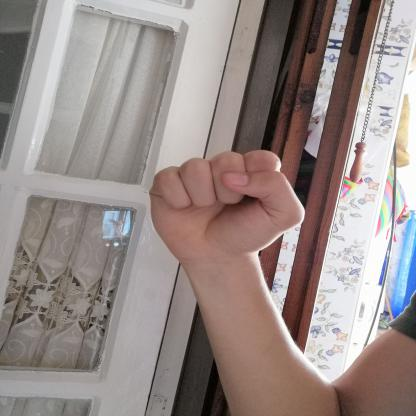SAD: (124, 132, 321, 272)
